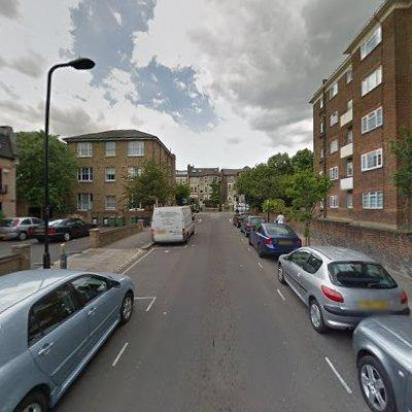stationary-car-offstreet: (32, 216, 93, 244), (0, 216, 42, 244)
stationary-car-onstreet: (0, 266, 136, 412), (276, 244, 412, 334), (352, 312, 412, 412), (247, 222, 303, 260), (240, 215, 266, 235), (233, 210, 250, 226)
stationary-light-truck-onstreet: (152, 205, 196, 245)
